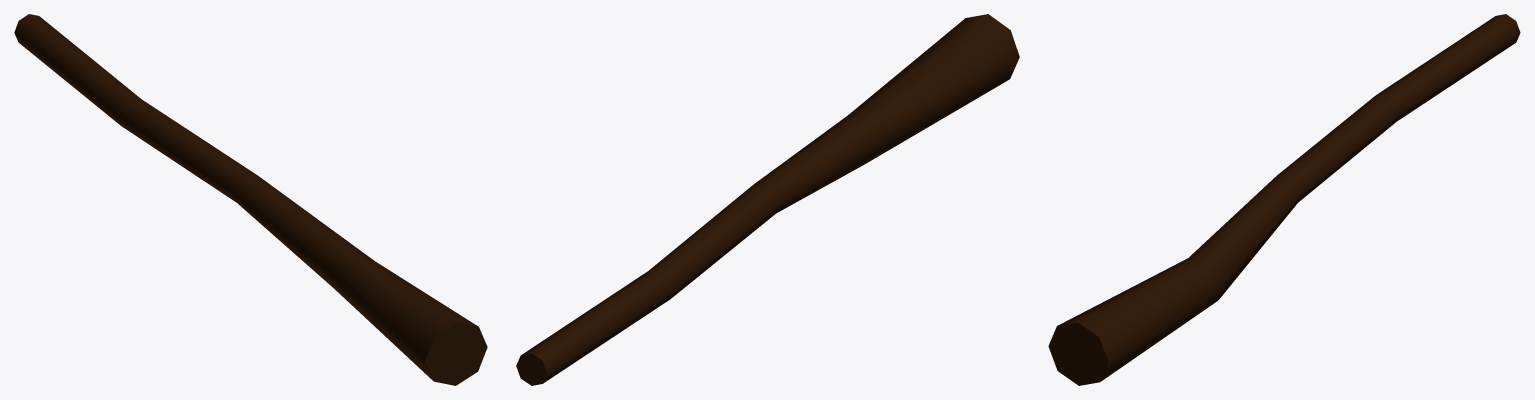
The model's file is EnemySword.fbx.
The picture shows the model from 3 angles, left to right: view 1: azimuth 30°, elevation 25°; view 2: azimuth 150°, elevation 25°; view 3: azimuth 330°, elevation 25°; orthographic projection. The views are drawn at different scales.
Visible parts, largest first — view 1: Cylinder001; view 2: Cylinder001; view 3: Cylinder001.
Boxes of the visible parts, x1,y1,x2,y2 form: Cylinder001: [14, 14, 487, 385]; Cylinder001: [516, 14, 1019, 385]; Cylinder001: [1048, 14, 1520, 385].
Size of the model in its own units: 6.48 by 6.38 by 77.08.
